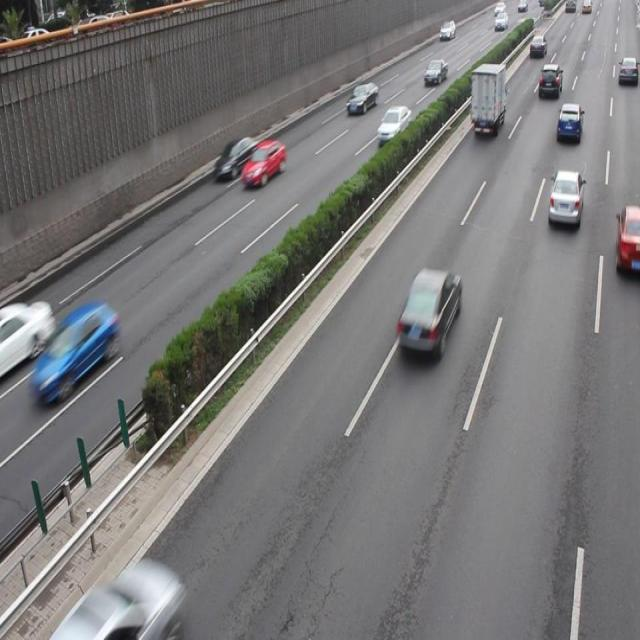bus: (470, 63, 506, 133)
car: (40, 300, 117, 400), (83, 562, 178, 640), (395, 269, 460, 357), (1, 301, 54, 378), (546, 168, 582, 229), (212, 134, 258, 181), (240, 140, 284, 186), (614, 206, 640, 274), (376, 104, 411, 142), (555, 100, 581, 144), (345, 80, 376, 116)
